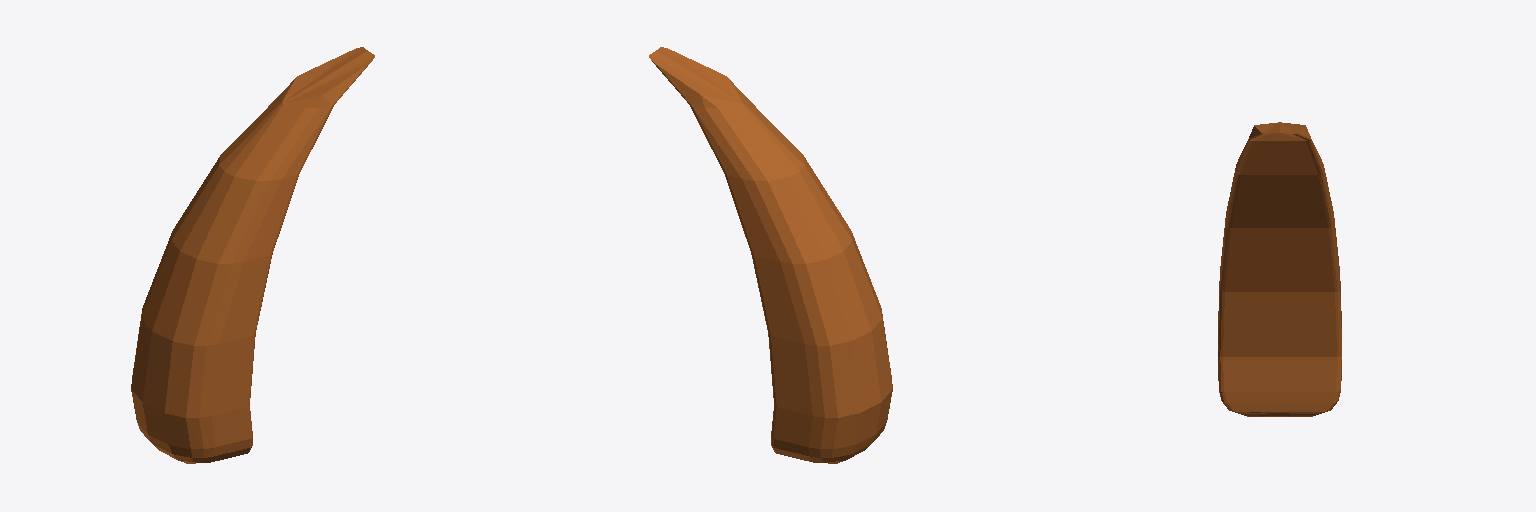
The model's file is character_dogArmRight.obj.
The picture shows the model from 3 angles: view 1: azimuth 30°, elevation 25°; view 2: azimuth 150°, elevation 25°; view 3: azimuth 270°, elevation 25°; orthographic projection.
Parts seen in each view (by area): view 1: character_dogArmRight_Cube.026; view 2: character_dogArmRight_Cube.026; view 3: character_dogArmRight_Cube.026.
Part boxes in pixels (bbox=[...]): character_dogArmRight_Cube.026: bbox=[131, 47, 374, 463]; character_dogArmRight_Cube.026: bbox=[649, 47, 892, 463]; character_dogArmRight_Cube.026: bbox=[1218, 122, 1341, 416].
Bounding box in the file's own units: 0.3802 × 0.5708 × 0.1812.